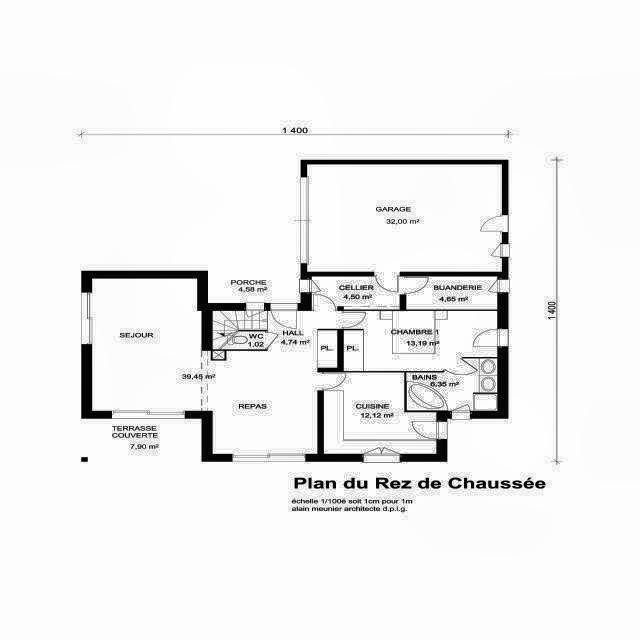room: (92, 278, 338, 454), (308, 164, 502, 271), (344, 311, 498, 371), (324, 372, 436, 454), (407, 358, 497, 411), (406, 277, 497, 309), (312, 277, 400, 309), (213, 331, 265, 349)
